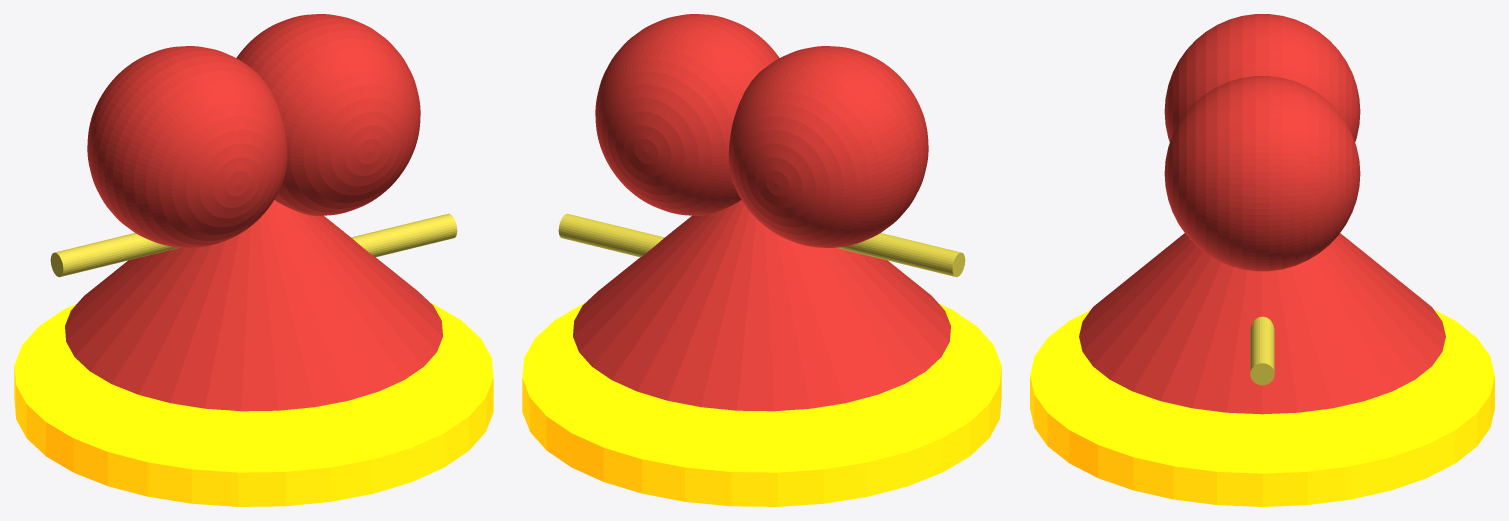
Rendered from fitness_heart_pulse.glb.
The picture shows the model from 3 angles, left to right: view 1: azimuth 30°, elevation 25°; view 2: azimuth 150°, elevation 25°; view 3: azimuth 270°, elevation 25°; orthographic projection. The views are drawn at different scales.
Visible parts, largest first — view 1: 02_20_Popular_Fitness_Heart_Pulse_part_03, 02_20_Popular_Fitness_Heart_Pulse_ROOT_base, 02_20_Popular_Fitness_Heart_Pulse_part_01, 02_20_Popular_Fitness_Heart_Pulse_part_02, 02_20_Popular_Fitness_Heart_Pulse_part_04, 02_20_Popular_Fitness_Heart_Pulse_part_07; view 2: 02_20_Popular_Fitness_Heart_Pulse_part_03, 02_20_Popular_Fitness_Heart_Pulse_ROOT_base, 02_20_Popular_Fitness_Heart_Pulse_part_01, 02_20_Popular_Fitness_Heart_Pulse_part_02, 02_20_Popular_Fitness_Heart_Pulse_part_04, 02_20_Popular_Fitness_Heart_Pulse_part_07; view 3: 02_20_Popular_Fitness_Heart_Pulse_ROOT_base, 02_20_Popular_Fitness_Heart_Pulse_part_03, 02_20_Popular_Fitness_Heart_Pulse_part_02, 02_20_Popular_Fitness_Heart_Pulse_part_01, 02_20_Popular_Fitness_Heart_Pulse_part_07.
Part boxes in pixels (bbox=[...]): 02_20_Popular_Fitness_Heart_Pulse_part_03: bbox=[65, 200, 442, 411]; 02_20_Popular_Fitness_Heart_Pulse_ROOT_base: bbox=[14, 303, 493, 506]; 02_20_Popular_Fitness_Heart_Pulse_part_01: bbox=[87, 46, 287, 247]; 02_20_Popular_Fitness_Heart_Pulse_part_02: bbox=[236, 14, 420, 215]; 02_20_Popular_Fitness_Heart_Pulse_part_04: bbox=[50, 233, 179, 277]; 02_20_Popular_Fitness_Heart_Pulse_part_07: bbox=[351, 213, 457, 257]; 02_20_Popular_Fitness_Heart_Pulse_part_03: bbox=[573, 200, 950, 411]; 02_20_Popular_Fitness_Heart_Pulse_ROOT_base: bbox=[522, 303, 1001, 506]; 02_20_Popular_Fitness_Heart_Pulse_part_01: bbox=[728, 46, 928, 247]; 02_20_Popular_Fitness_Heart_Pulse_part_02: bbox=[595, 14, 779, 215]; 02_20_Popular_Fitness_Heart_Pulse_part_04: bbox=[836, 233, 965, 277]; 02_20_Popular_Fitness_Heart_Pulse_part_07: bbox=[558, 213, 664, 257]; 02_20_Popular_Fitness_Heart_Pulse_ROOT_base: bbox=[1030, 310, 1494, 506]; 02_20_Popular_Fitness_Heart_Pulse_part_03: bbox=[1079, 233, 1445, 414]; 02_20_Popular_Fitness_Heart_Pulse_part_02: bbox=[1164, 76, 1360, 271]; 02_20_Popular_Fitness_Heart_Pulse_part_01: bbox=[1164, 14, 1360, 141]; 02_20_Popular_Fitness_Heart_Pulse_part_07: bbox=[1250, 316, 1274, 385].
Size of the model in its own units: 0.76 by 0.6396 by 0.76.
